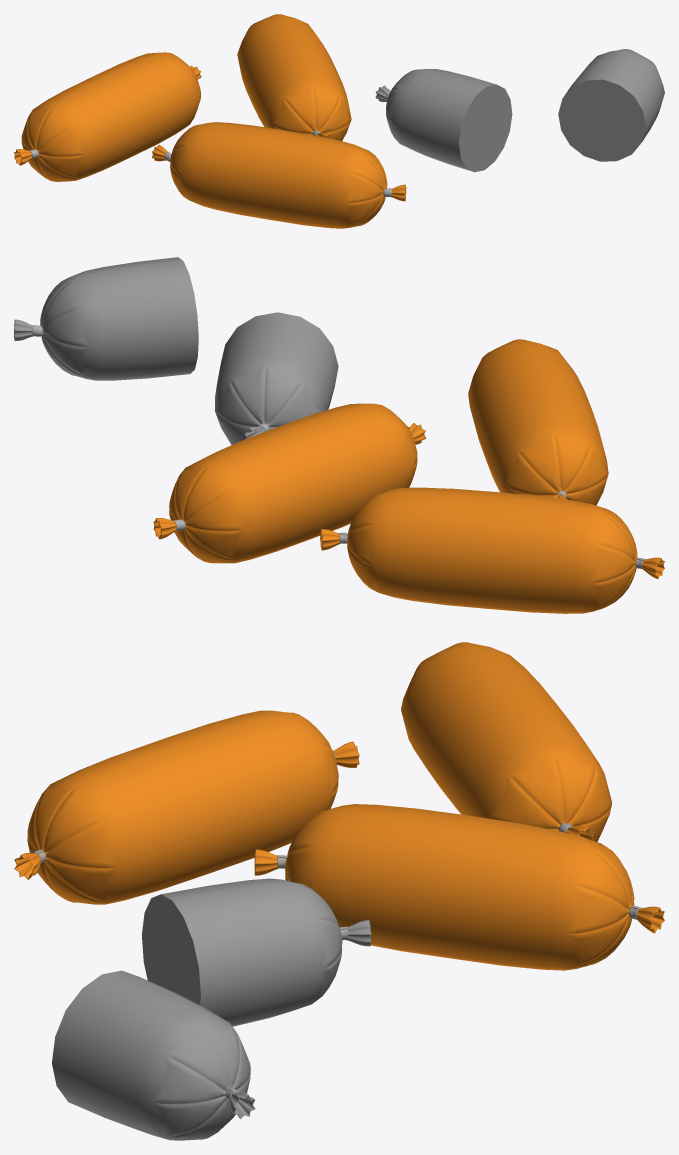
3 renders of one model, top to bottom at view 1: azimuth 30°, elevation 25°; view 2: azimuth 150°, elevation 25°; view 3: azimuth 270°, elevation 25°, orthographic. The views are drawn at different scales.
Parts seen in each view (by area): view 1: Model_084_Sirloin_05, Model_084_Sirloin_08, Model_084_Sirloin_02, Model_084_Sirloin_06, Model_084_Sirloin_12; view 2: Model_084_Sirloin_08, Model_084_Sirloin_02, Model_084_Sirloin_05, Model_084_Sirloin_12, Model_084_Sirloin_06; view 3: Model_084_Sirloin_02, Model_084_Sirloin_05, Model_084_Sirloin_08, Model_084_Sirloin_12, Model_084_Sirloin_06.
Part boxes in pixels (<box>): Model_084_Sirloin_05: <box>151,122,406,228</box>; Model_084_Sirloin_08: <box>14,52,201,181</box>; Model_084_Sirloin_02: <box>237,14,351,140</box>; Model_084_Sirloin_06: <box>375,69,512,172</box>; Model_084_Sirloin_12: <box>558,49,664,161</box>; Model_084_Sirloin_08: <box>320,487,664,613</box>; Model_084_Sirloin_02: <box>153,403,426,563</box>; Model_084_Sirloin_05: <box>468,339,608,505</box>; Model_084_Sirloin_12: <box>14,257,198,380</box>; Model_084_Sirloin_06: <box>215,312,338,445</box>; Model_084_Sirloin_02: <box>254,804,664,970</box>; Model_084_Sirloin_05: <box>14,710,359,904</box>; Model_084_Sirloin_08: <box>401,642,611,841</box>; Model_084_Sirloin_12: <box>52,970,255,1140</box>; Model_084_Sirloin_06: <box>142,878,371,1026</box>.
Bounding box in the file's own units: 1514 × 211 × 947.
